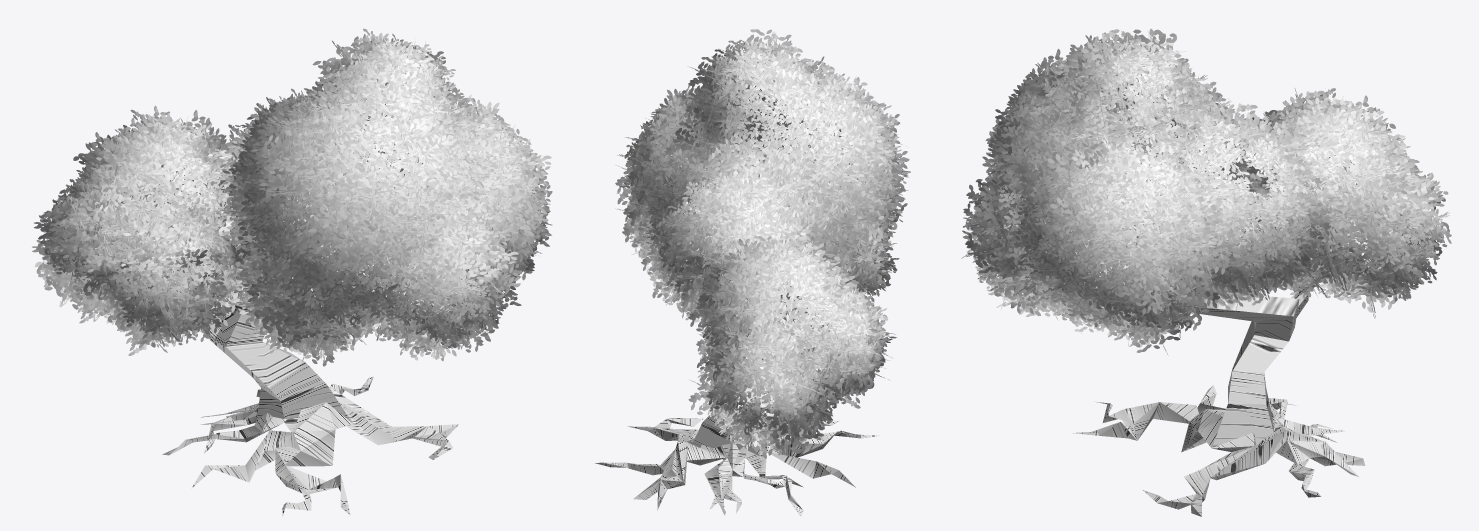
File: Oaktree04.fbx
The picture shows the model from 3 angles, left to right: view 1: azimuth 30°, elevation 25°; view 2: azimuth 150°, elevation 25°; view 3: azimuth 270°, elevation 25°; orthographic projection. The views are drawn at different scales.
Parts seen in each view (by area): view 1: OakTree04_LOD0; view 2: OakTree04_LOD0; view 3: OakTree04_LOD0.
Part boxes in pixels (x1=…): OakTree04_LOD0: x1=32, y1=28, x2=552, y2=516; OakTree04_LOD0: x1=595, y1=29, x2=910, y2=516; OakTree04_LOD0: x1=961, y1=28, x2=1451, y2=516.
Size of what is drawn, in the model's own units: 1099 by 1163 by 1202.
